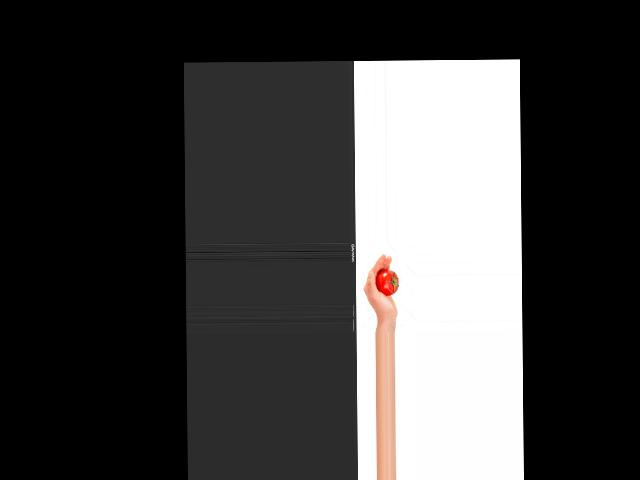tomato: (375, 270, 398, 296)
